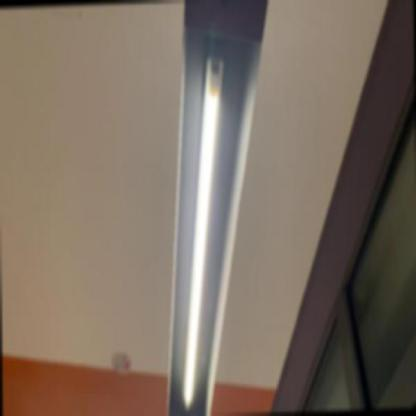light_on: (171, 44, 230, 415)
